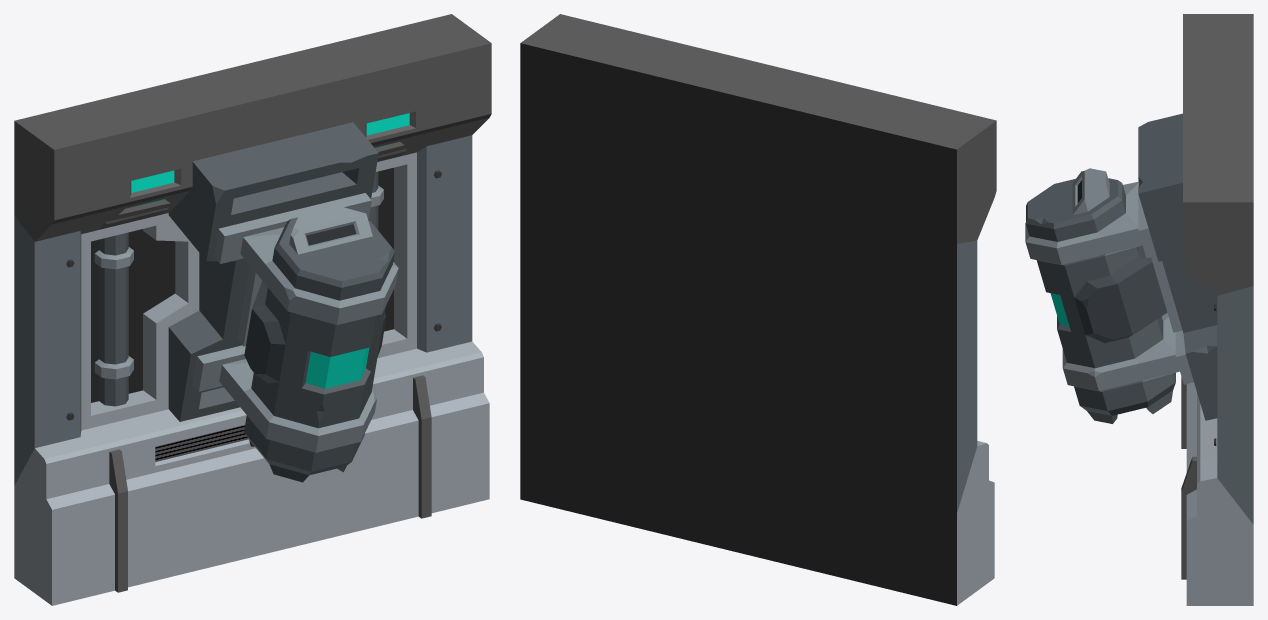
The model's file is SM_Bld_Wall_Mechanical_02.fbx.
The picture shows the model from 3 angles, left to right: view 1: azimuth 30°, elevation 25°; view 2: azimuth 150°, elevation 25°; view 3: azimuth 270°, elevation 25°; orthographic projection. The views are drawn at different scales.
Visible parts, largest first — view 1: SM_Bld_Wall_Mechanical_02; view 2: SM_Bld_Wall_Mechanical_02; view 3: SM_Bld_Wall_Mechanical_02.
Boxes of the visible parts, left/top/right/bottom form: SM_Bld_Wall_Mechanical_02: left=14, top=14, right=491, bottom=605; SM_Bld_Wall_Mechanical_02: left=520, top=14, right=996, bottom=605; SM_Bld_Wall_Mechanical_02: left=1025, top=14, right=1253, bottom=605.
Bounding box in the file's own units: 500 × 500 × 256.
1 material, 1 textured.
